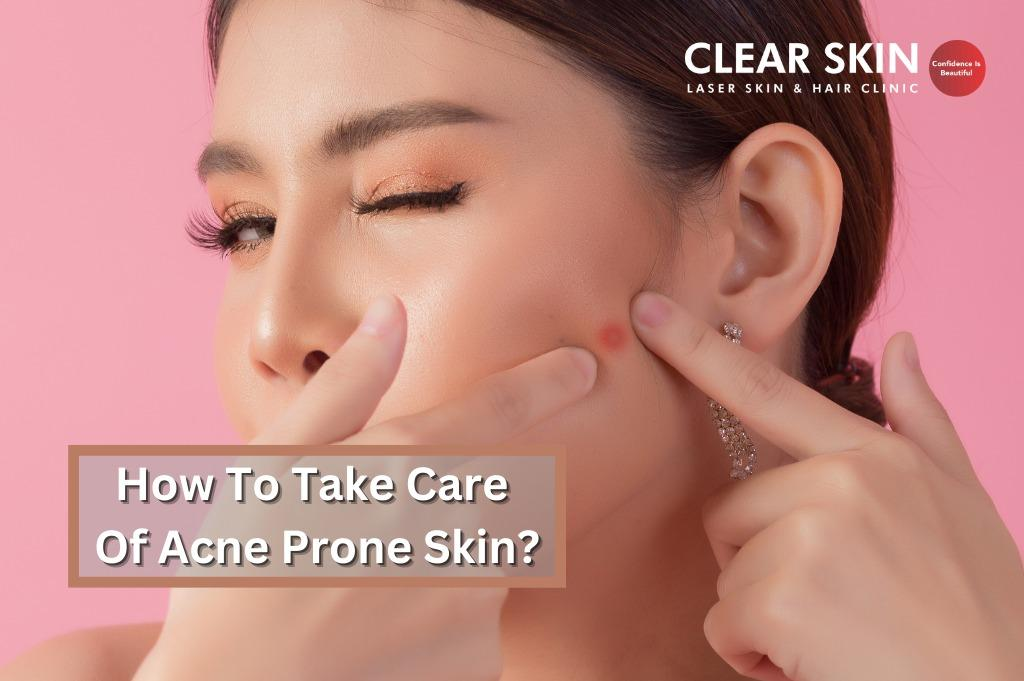Acne: (592, 317, 635, 364)
